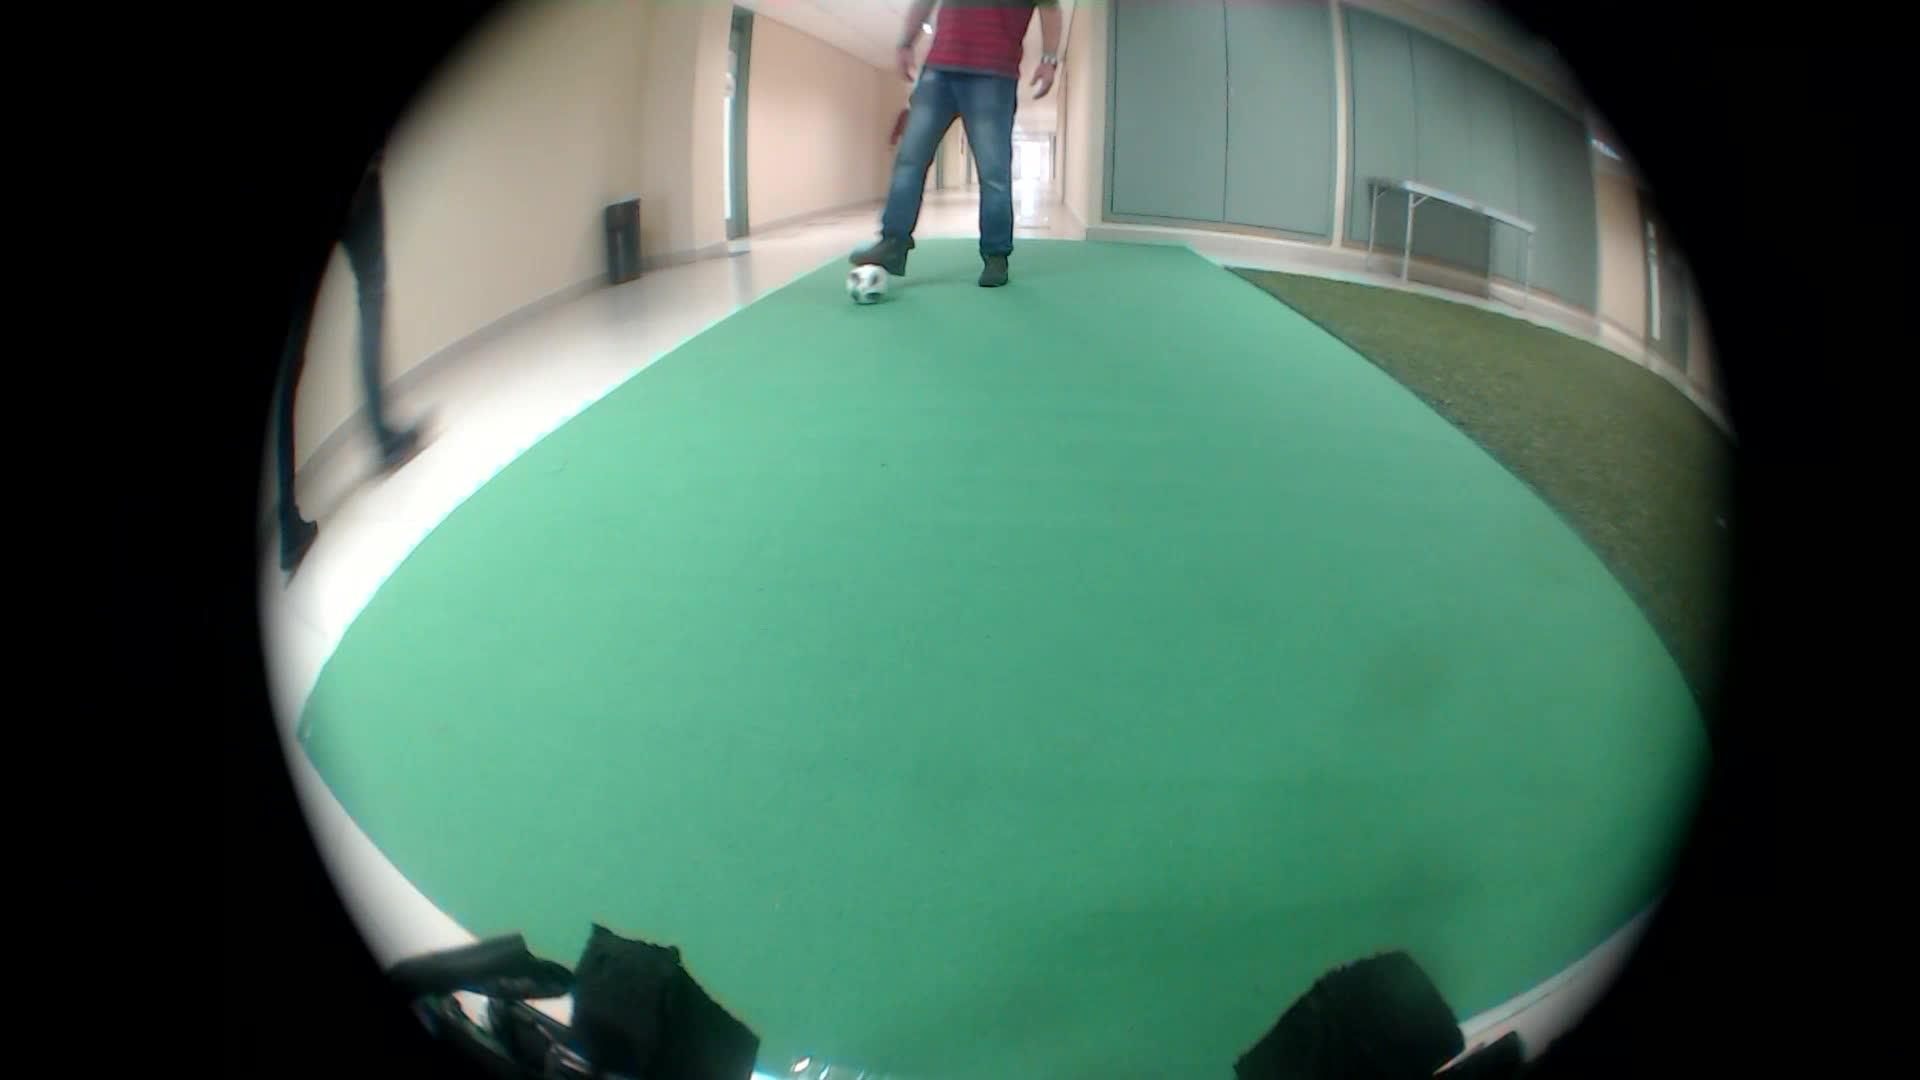ball: (852, 251, 909, 310)
